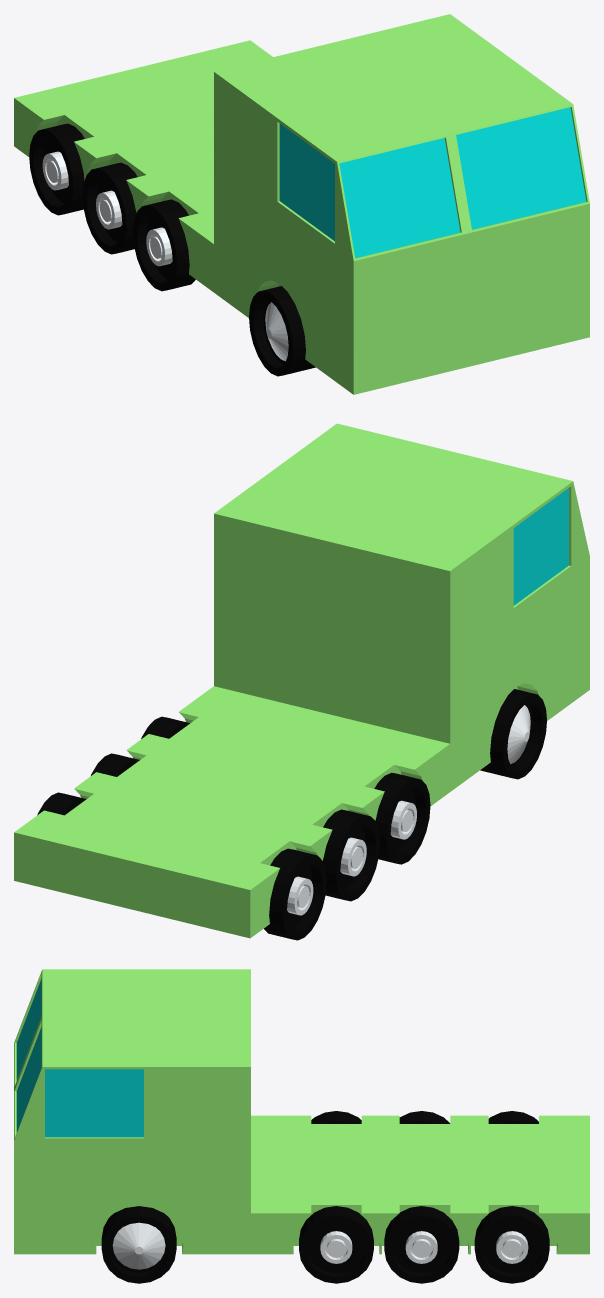
Rendered from Truck.fbx.
3 views of the same model, one above another, from view 1: azimuth 30°, elevation 25°; view 2: azimuth 150°, elevation 25°; view 3: azimuth 270°, elevation 25° (orthographic). The views are drawn at different scales.
Visible parts, largest first — view 1: Cube, Cylinder.008, Cylinder.010, Cylinder.004, Cylinder.009; view 2: Cube, Cylinder.010, Cylinder.009, Cylinder.008, Cylinder.004; view 3: Cube, Cylinder.010, Cylinder.009, Cylinder.008, Cylinder.004.
Part boxes in pixels (x1,y1,x2,y2): Cube: [14, 14, 589, 394]; Cylinder.008: [133, 199, 195, 291]; Cylinder.010: [29, 123, 84, 215]; Cylinder.004: [249, 286, 315, 376]; Cylinder.009: [82, 162, 137, 254]; Cube: [14, 423, 589, 938]; Cylinder.010: [37, 792, 326, 940]; Cylinder.009: [91, 753, 380, 901]; Cylinder.008: [141, 716, 430, 864]; Cylinder.004: [480, 689, 546, 779]; Cube: [14, 969, 589, 1254]; Cylinder.010: [474, 1111, 549, 1283]; Cylinder.009: [384, 1111, 459, 1283]; Cylinder.008: [299, 1111, 373, 1283]; Cylinder.004: [101, 1206, 176, 1283].
Bounding box in the file's own units: 218 × 203 × 498.
